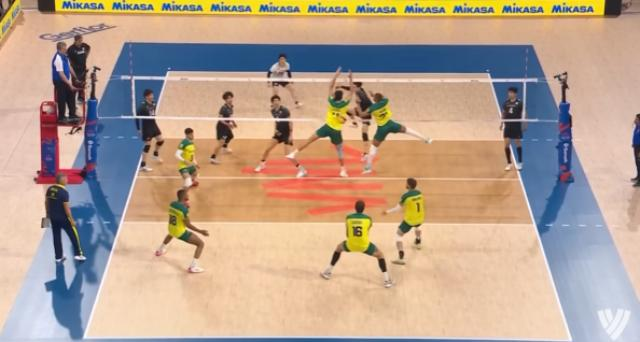Levantador: (374, 160, 436, 274), (198, 86, 252, 160)
Libero: (250, 42, 308, 110)
